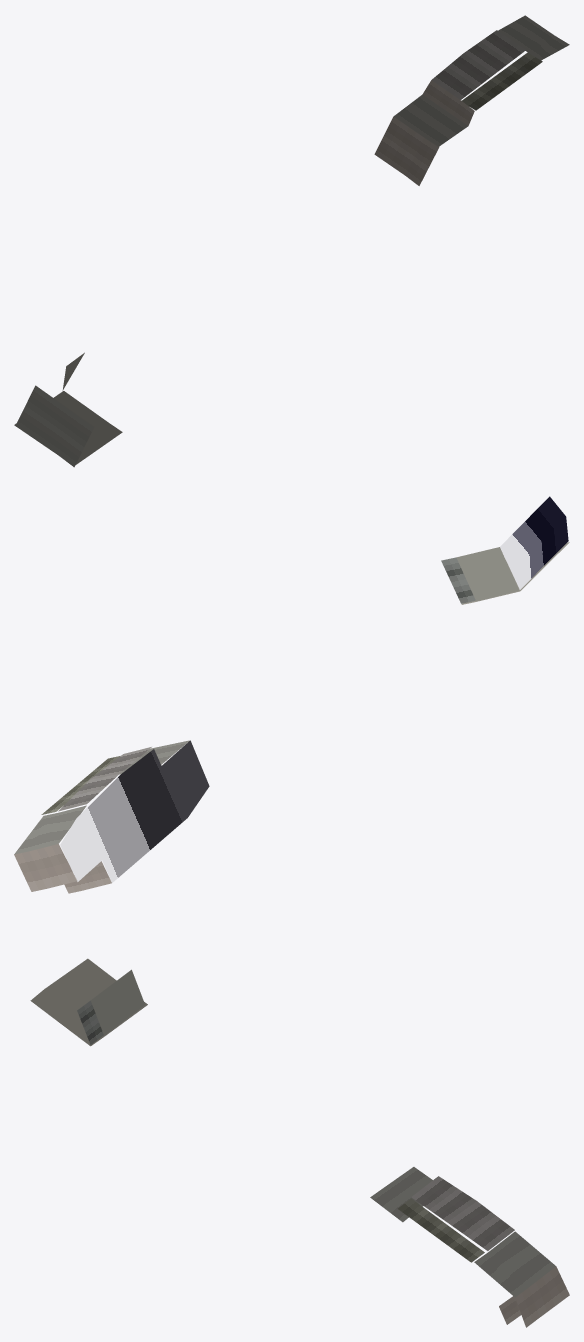
The model's file is tile_LOD3_r1_c1.glb.
The picture shows the model from 3 angles, top to bottom: view 1: azimuth 30°, elevation 25°; view 2: azimuth 210°, elevation 25°; view 3: azimuth 270°, elevation 25°; orthographic projection.
Bounding box in the file's own units: 161 × 21 × 101.
Materials: 10 (10 with a texture image).
